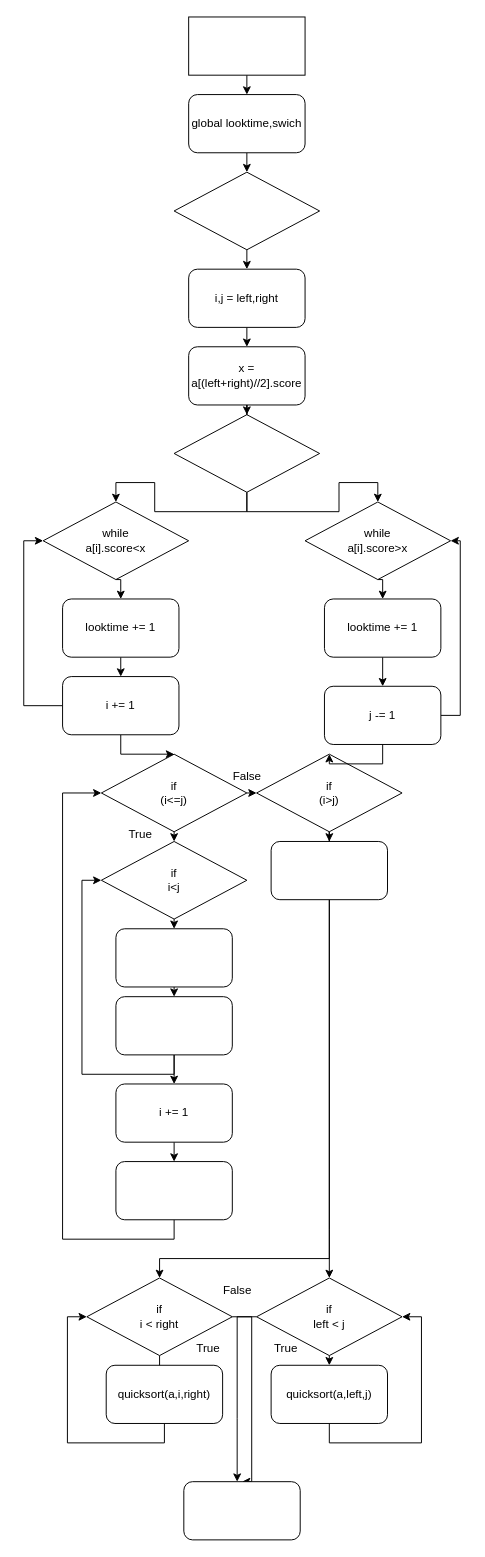
Some shapes in this 485 by 1557 pixel diagram are drawn without their labels. Each missing label, with the centre of its shape:
"a[i],a[j] = a[j],a[i]" goes at (x=173, y=1025).
"break" goes at (x=329, y=870).
"if left < right" goes at (x=246, y=210).
"j += 1" goes at (x=173, y=1190).
"quicksort(a,left,right) 開始" goes at (x=246, y=45).
"return a" goes at (x=241, y=1510).
"swich += 1" goes at (x=173, y=957).
"while True" goes at (x=246, y=453).
